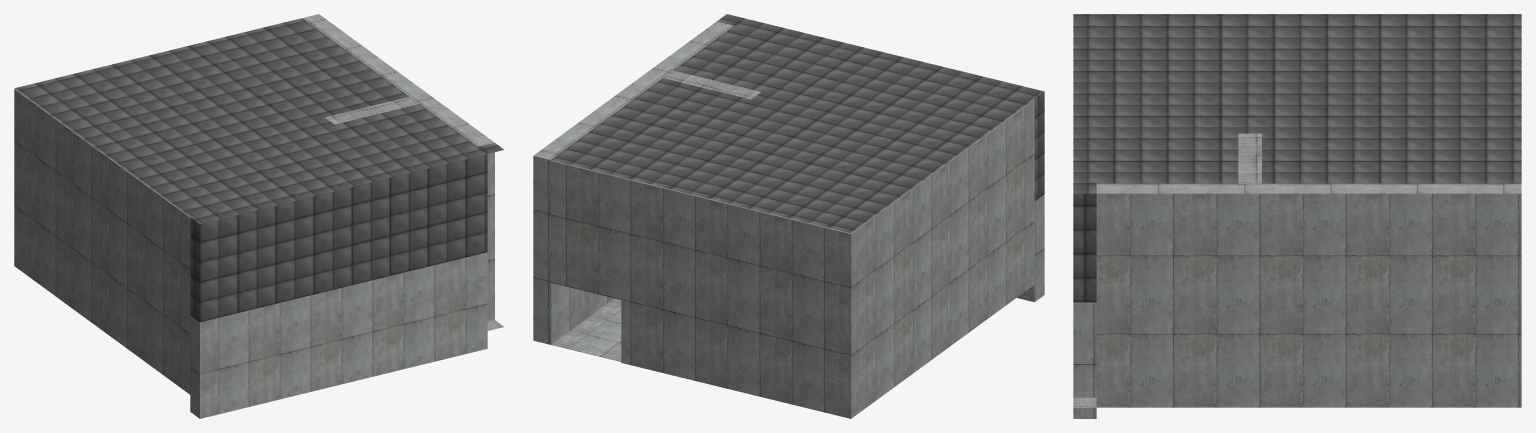
File: Level_22.fbx
The picture shows the model from 3 angles, left to right: view 1: azimuth 30°, elevation 25°; view 2: azimuth 150°, elevation 25°; view 3: azimuth 270°, elevation 25°; orthographic projection. The views are drawn at different scales.
Parts seen in each view (by area): view 1: NoTeleport.011, Wall.012; view 2: Wall.012, NoTeleport.011; view 3: Wall.012, NoTeleport.011.
Part boxes in pixels (x1,y1,x2,y2): NoTeleport.011: (15, 18, 504, 322); Wall.012: (14, 14, 503, 418); Wall.012: (533, 21, 1044, 418); NoTeleport.011: (551, 14, 1044, 233); Wall.012: (1073, 133, 1521, 418); NoTeleport.011: (1073, 14, 1521, 302).
Size of the model in its own units: 18 by 19 by 11.
